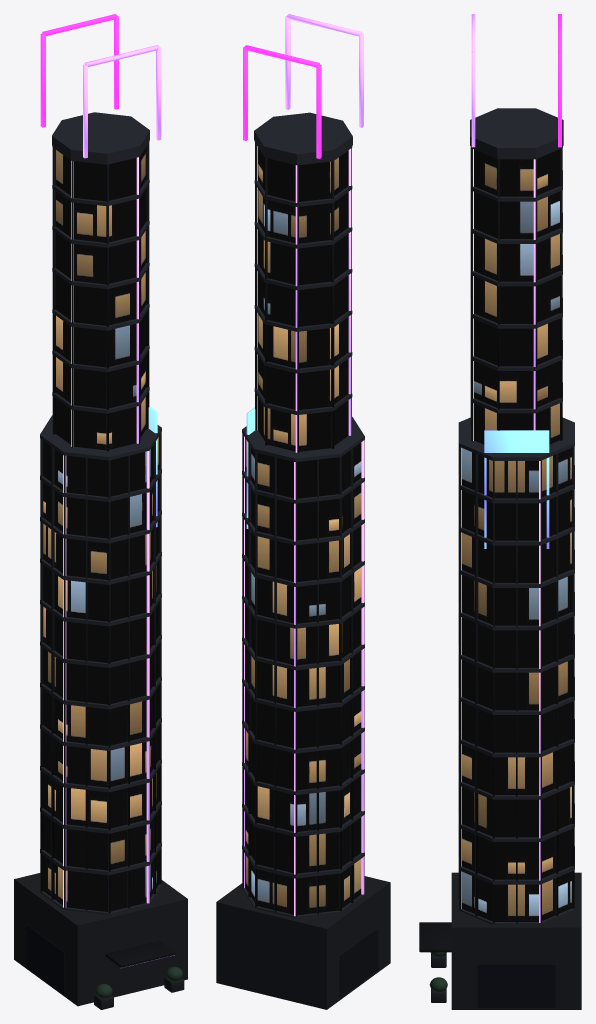
The model's file is neon-v-C.glb.
The picture shows the model from 3 angles, left to right: view 1: azimuth 30°, elevation 25°; view 2: azimuth 150°, elevation 25°; view 3: azimuth 270°, elevation 25°; orthographic projection. The views are drawn at different scales.
Visible parts, largest first — view 1: Building; view 2: Building; view 3: Building.
Part boxes in pixels (bbox=[...]): Building: bbox=[14, 14, 187, 1009]; Building: bbox=[216, 14, 390, 1009]; Building: bbox=[419, 14, 581, 1009].
Bounding box in the file's own units: 10.1 × 80.75 × 12.5.
9 materials, 1 textured.
